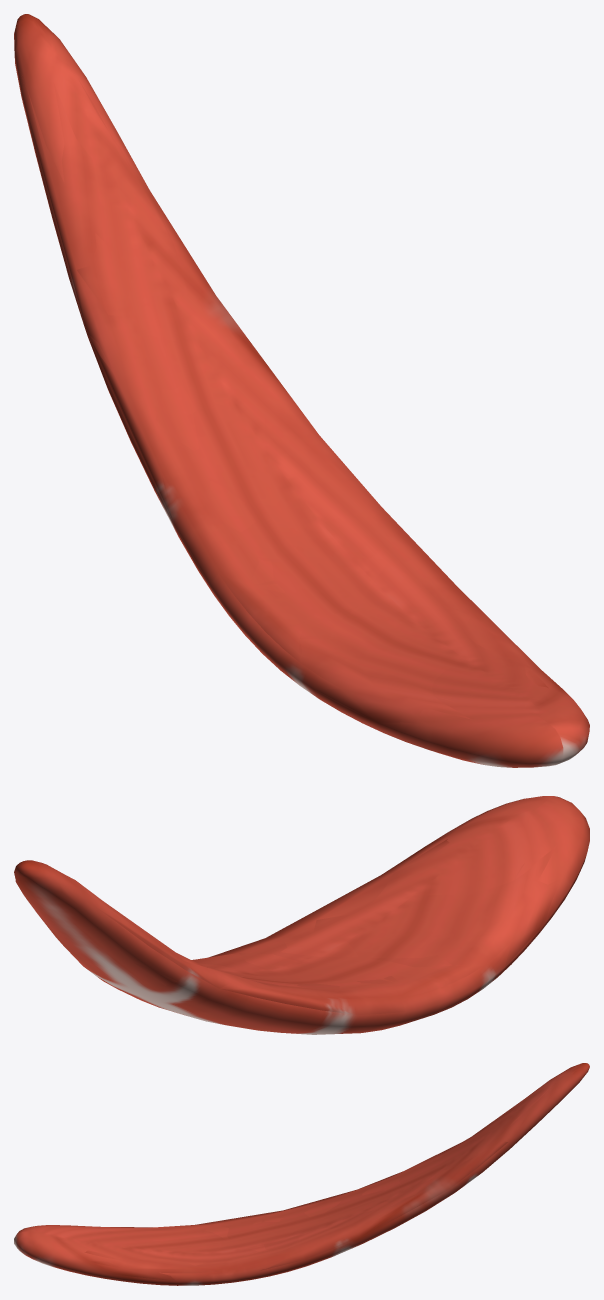
Rendered from Rectus Abdominis.fbx.
3 views of the same model, one above another, from view 1: azimuth 30°, elevation 25°; view 2: azimuth 150°, elevation 25°; view 3: azimuth 270°, elevation 25° (orthographic). The views are drawn at different scales.
Visible parts, largest first — view 1: Rectus Abdominis low, Rectus Abdominis; view 2: Rectus Abdominis, Rectus Abdominis low; view 3: Rectus Abdominis, Rectus Abdominis low.
Boxes of the visible parts, x1=… form: Rectus Abdominis low: x1=18, y1=20, x2=587, y2=747; Rectus Abdominis: x1=14, y1=14, x2=589, y2=767; Rectus Abdominis: x1=14, y1=796, x2=589, y2=1034; Rectus Abdominis low: x1=23, y1=807, x2=562, y2=1015; Rectus Abdominis: x1=14, y1=1063, x2=589, y2=1285; Rectus Abdominis low: x1=28, y1=1069, x2=581, y2=1283.
Size of the model in its own units: 7.76 by 14.05 by 35.66.
